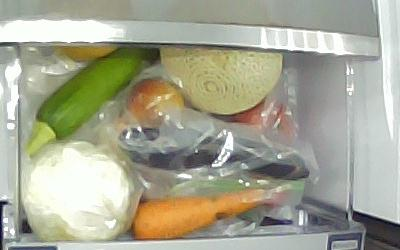cabbage_vinyl: (21, 138, 136, 240)
carrot: (129, 186, 278, 239)
eggplant_vinyl: (116, 124, 310, 181)
melon: (160, 44, 282, 115)
prune_vinyl: (124, 76, 184, 128)
tomato_vinyl: (227, 97, 295, 145)
zucchini: (24, 44, 160, 155)
